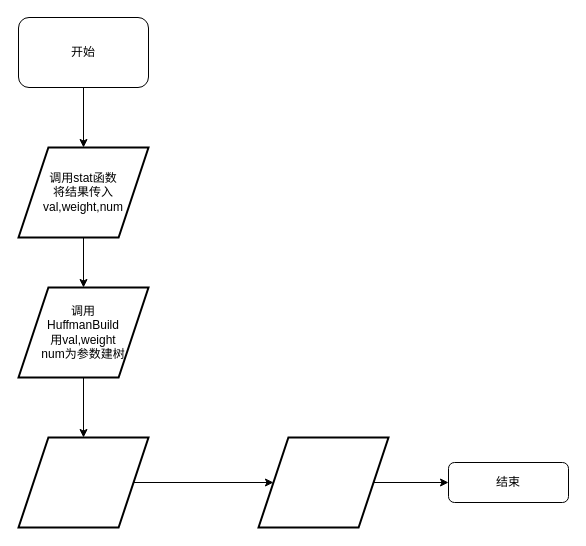
Some shapes in this 586 by 546 pixel diagram are drawn without their labels. Each missing label, with the centre of its shape:
"调用code_print 向cmd打印结果， 并生结果文件" belongs at point 323,482.
"调用HuffmanCode 对huffmantree编码" belongs at point 83,482.
